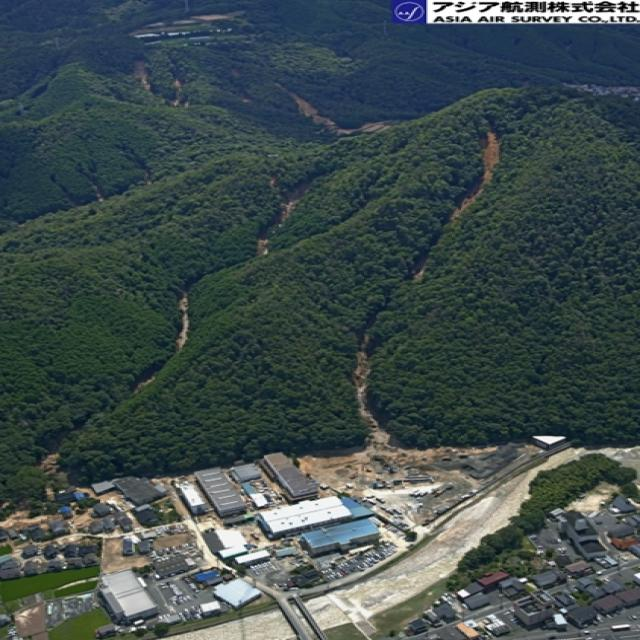Debris-flow: (276, 82, 394, 138), (447, 129, 503, 223), (350, 330, 374, 422), (15, 38, 52, 89), (277, 181, 309, 227), (15, 10, 67, 35), (174, 284, 193, 352), (37, 90, 81, 109), (135, 60, 157, 89), (41, 146, 67, 166), (133, 374, 155, 393), (411, 259, 426, 279), (172, 79, 183, 106), (254, 235, 269, 254), (21, 101, 37, 118), (52, 70, 67, 87)
